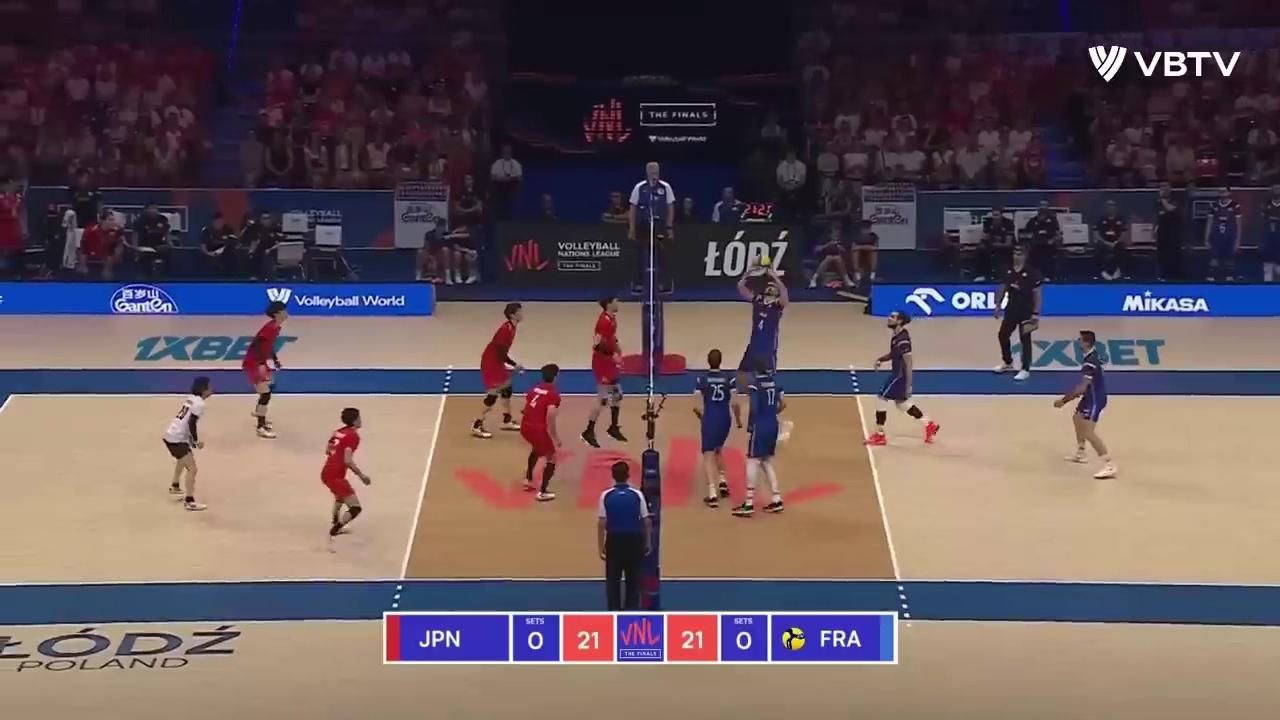ball: (756, 254, 770, 267)
